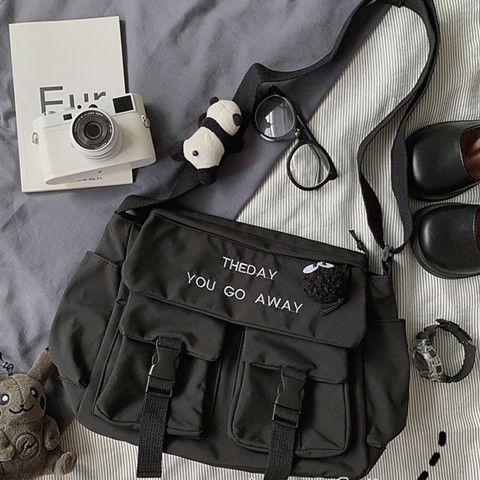nylon: (47, 1, 442, 480)
